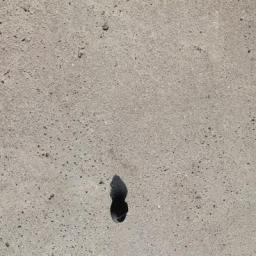FOD: (109, 171, 132, 229)
